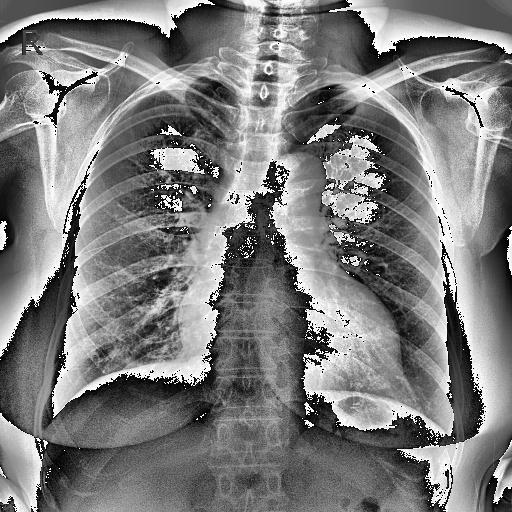0- Aortic enlargement: (270, 150, 330, 210), (266, 150, 330, 206), (280, 153, 326, 189)
2- Calcification: (292, 178, 318, 192)
3- Cardiomegaly: (170, 286, 405, 396), (176, 305, 407, 403), (178, 290, 402, 390)
